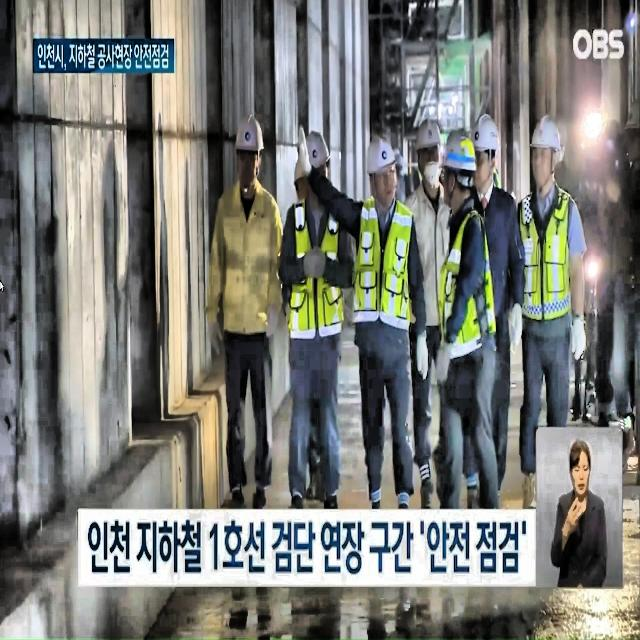safety_helmet: (440, 130, 478, 174), (234, 111, 266, 156), (526, 112, 561, 151), (469, 113, 500, 154), (302, 130, 332, 172), (365, 139, 397, 175), (414, 117, 443, 152), (623, 100, 640, 132), (292, 156, 308, 185), (557, 120, 570, 146), (393, 146, 405, 168)
safety_jacket: (437, 208, 494, 356), (351, 195, 412, 329), (287, 199, 345, 337), (517, 190, 572, 320)
